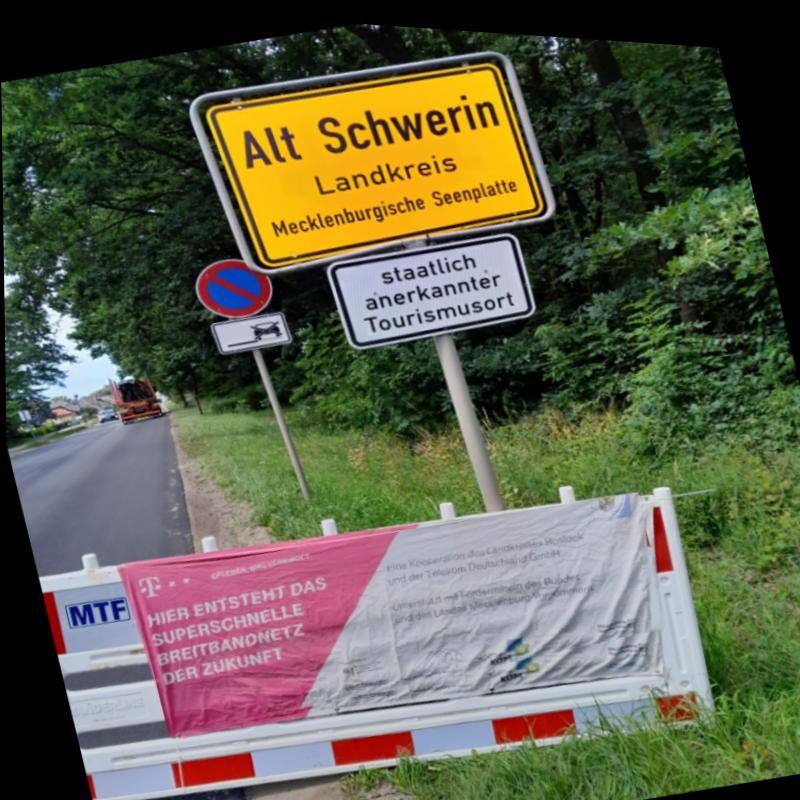Banner: (127, 455, 678, 762)
